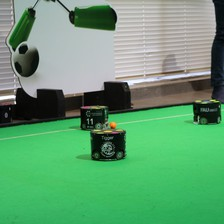ball: (107, 120, 117, 130)
robot: (87, 126, 129, 164), (189, 98, 224, 126), (78, 103, 110, 133), (1, 100, 12, 124)
